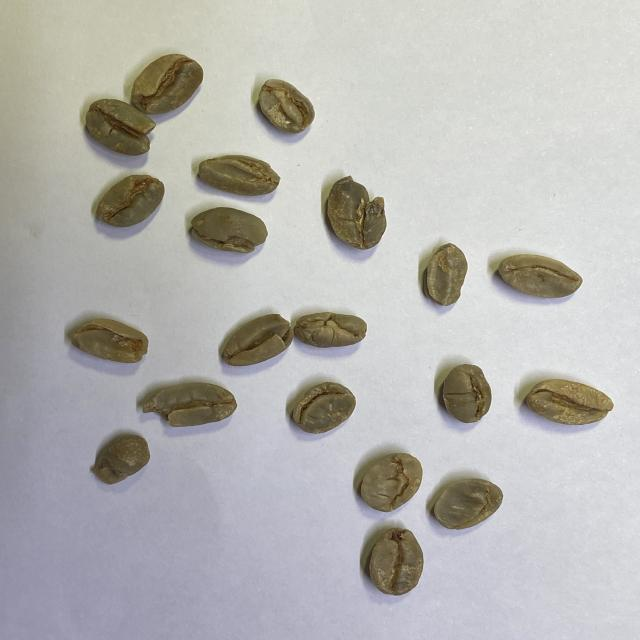bad: (127, 51, 207, 118), (323, 174, 390, 252), (139, 380, 240, 430), (82, 96, 160, 159), (496, 251, 585, 303), (525, 376, 614, 428), (355, 450, 425, 514), (68, 316, 152, 369), (220, 311, 296, 369), (188, 204, 271, 257), (94, 170, 166, 230), (367, 525, 426, 597), (194, 150, 281, 198), (430, 477, 506, 531), (288, 380, 357, 435), (256, 76, 319, 136), (89, 431, 152, 488), (440, 362, 494, 426), (422, 240, 469, 310), (292, 309, 369, 350)
